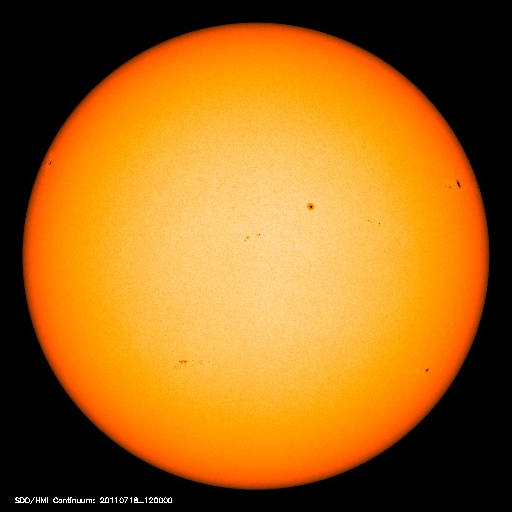sunspot: (231, 220, 270, 253), (290, 189, 327, 222), (163, 349, 203, 377), (436, 173, 470, 198), (412, 357, 437, 384), (41, 149, 61, 178)
